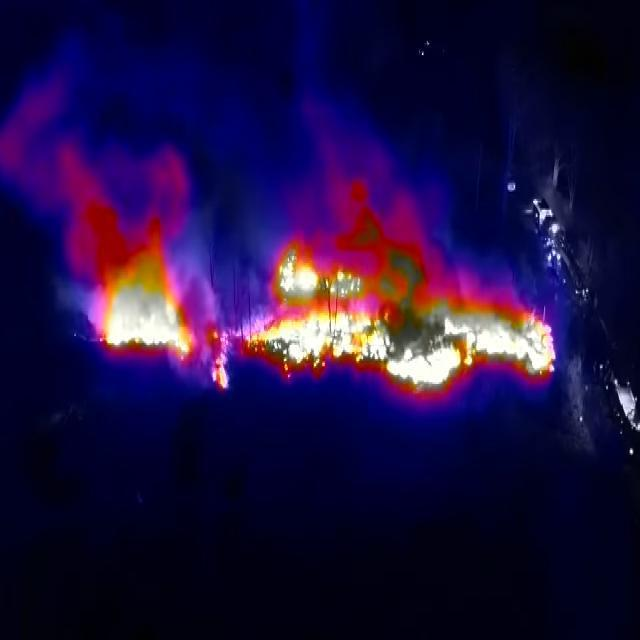fire: (208, 240, 559, 396), (94, 238, 200, 369)
